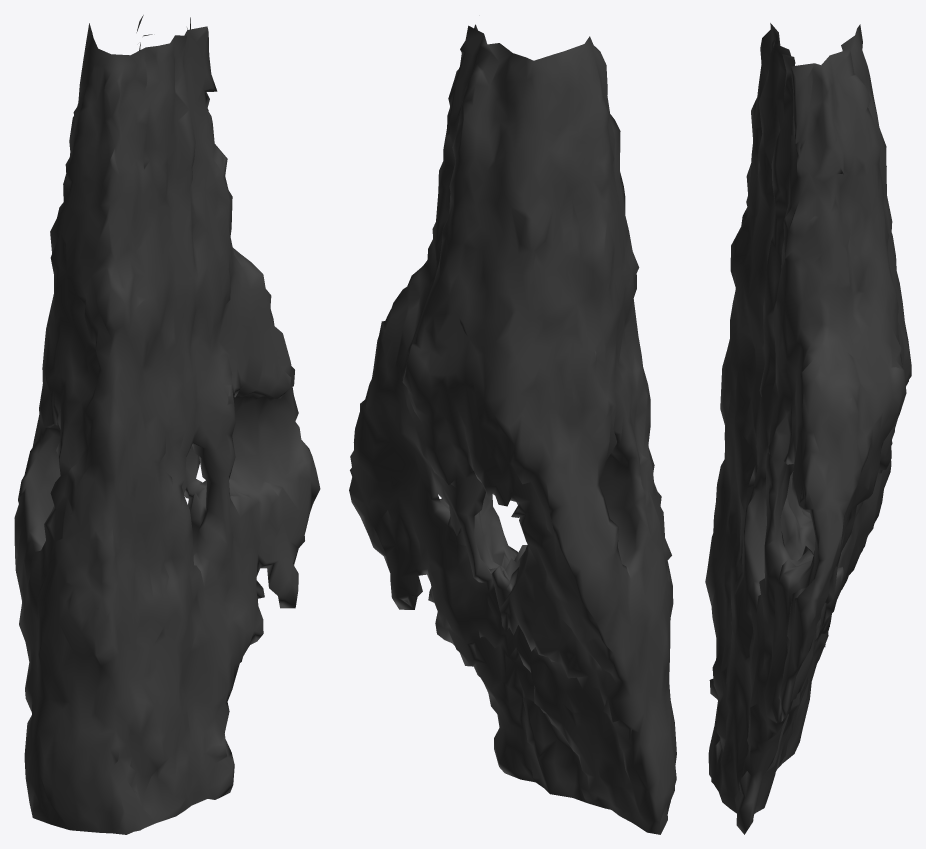
Rendered from spire-2.glb.
3 views of the same model, side by side, from view 1: azimuth 30°, elevation 25°; view 2: azimuth 150°, elevation 25°; view 3: azimuth 270°, elevation 25° (orthographic). The views are drawn at different scales.
Visible parts, largest first — view 1: geometry_0; view 2: geometry_0; view 3: geometry_0.
Part boxes in pixels (x1,y1,x2,y2): geometry_0: [14, 15, 320, 834]; geometry_0: [349, 24, 676, 834]; geometry_0: [705, 23, 911, 834].
Bounding box in the file's own units: 0.4185 × 1 × 0.2434.
Materials: 1 (1 with a texture image).
